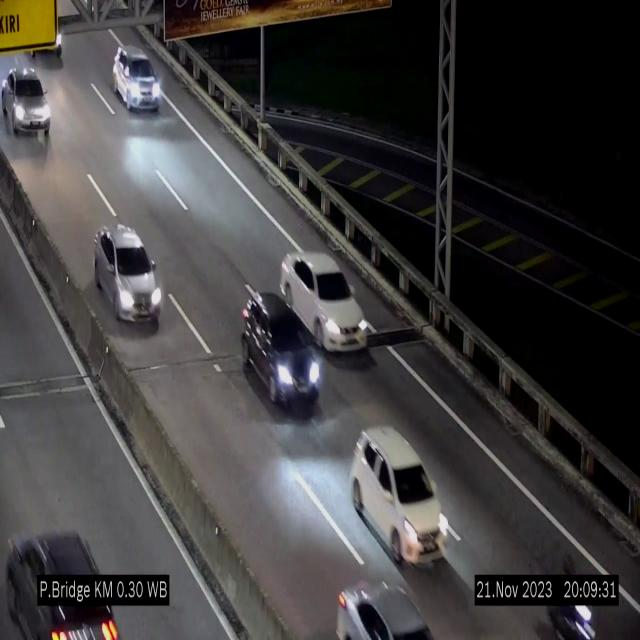Car: (351, 427, 447, 565), (241, 293, 323, 407), (280, 253, 370, 351), (94, 225, 162, 325), (0, 66, 54, 140), (112, 46, 162, 110)
